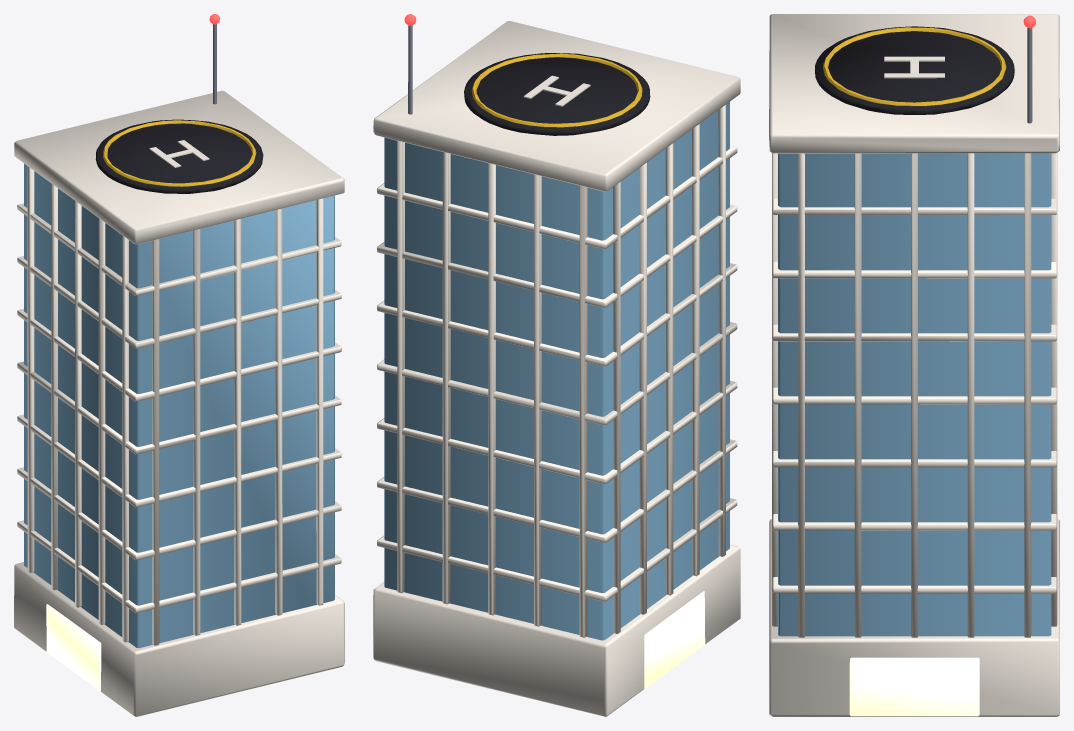
The model's file is office.glb.
3 views of the same model, side by side, from view 1: azimuth 30°, elevation 25°; view 2: azimuth 150°, elevation 25°; view 3: azimuth 270°, elevation 25° (orthographic). The views are drawn at different scales.
Visible parts, largest first — view 1: office; view 2: office; view 3: office.
Boxes of the visible parts, x1,y1,x2,y2 form: office: [14, 14, 344, 716]; office: [373, 14, 740, 716]; office: [769, 14, 1059, 716].
Size of the model in its own units: 13.49 by 34.97 by 13.38.
Materials: 1 (1 with a texture image).
